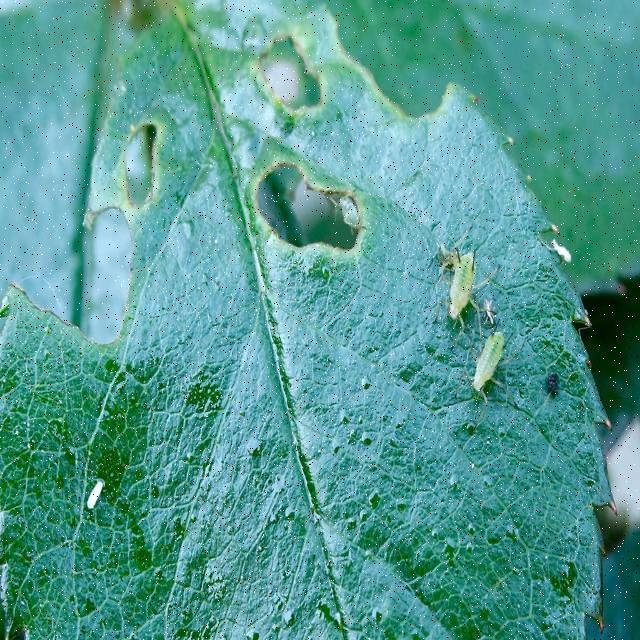Aphids: (34, 103, 63, 164), (194, 175, 221, 225), (50, 283, 89, 316), (52, 109, 74, 150), (30, 200, 48, 235), (41, 230, 61, 253), (18, 242, 35, 261)
